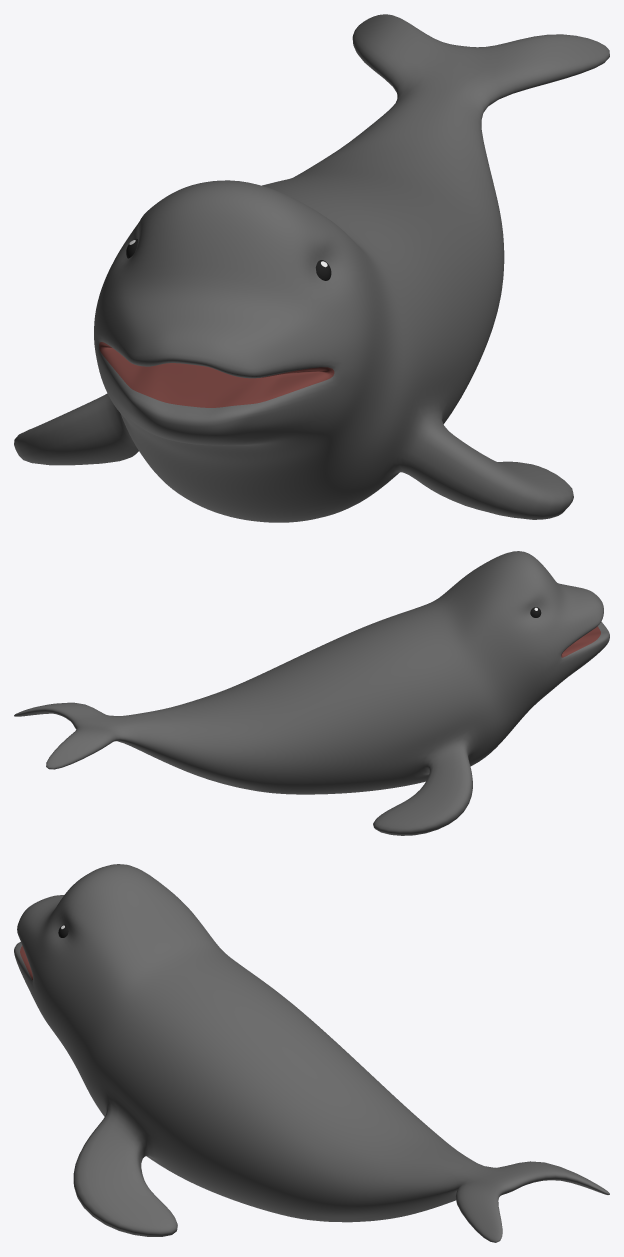
The model's file is Beluga_Whale.glb.
3 renders of one model, top to bottom at view 1: azimuth 30°, elevation 25°; view 2: azimuth 150°, elevation 25°; view 3: azimuth 270°, elevation 25°, orthographic. The views are drawn at different scales.
Visible parts, largest first — view 1: Cube; view 2: Cube; view 3: Cube.
Part boxes in pixels (<box>): Cube: <box>14,14,609,522</box>; Cube: <box>14,551,609,835</box>; Cube: <box>14,864,609,1242</box>.
Bounding box in the file's own units: 2.83 × 1.37 × 2.83.
